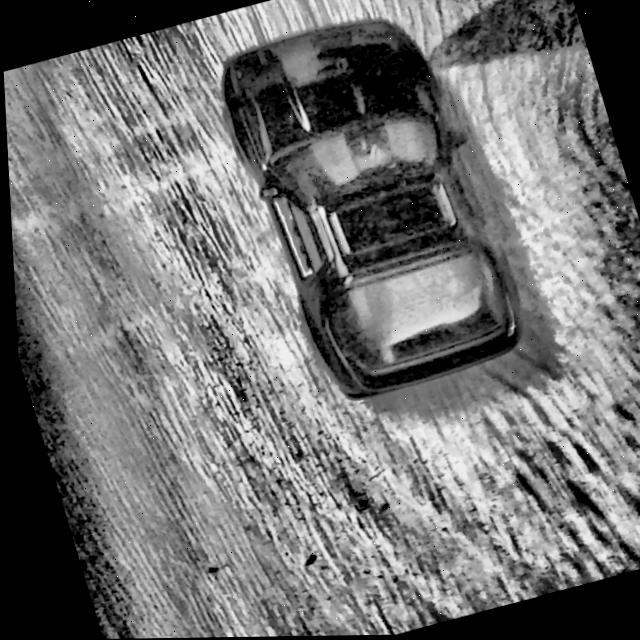car: (202, 0, 529, 415)
